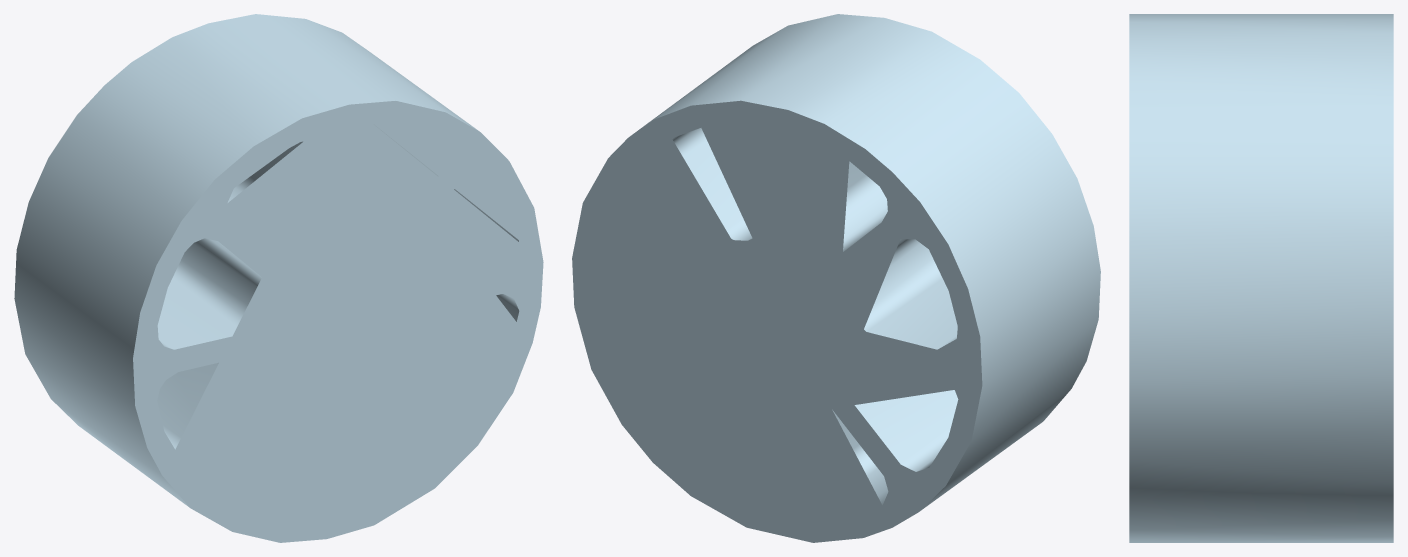
The model's file is TwoInSquish.fbx.
3 renders of one model, left to right at view 1: azimuth 30°, elevation 25°; view 2: azimuth 150°, elevation 25°; view 3: azimuth 270°, elevation 25°, orthographic. The views are drawn at different scales.
Visible parts, largest first — view 1: Part 1; view 2: Part 1; view 3: Part 1.
Boxes of the visible parts, x1=… form: Part 1: x1=14, y1=14, x2=543, y2=542; Part 1: x1=572, y1=14, x2=1100, y2=542; Part 1: x1=1129, y1=14, x2=1393, y2=542.
Size of the model in its own units: 5.08 by 5.07 by 2.54.
